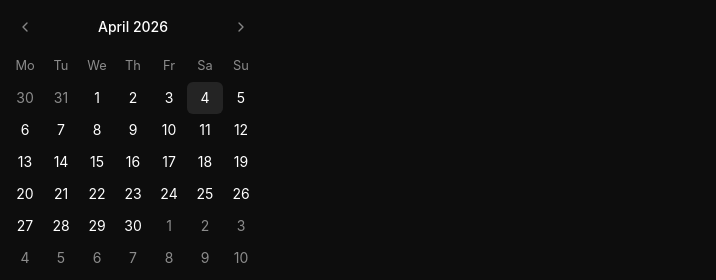
Scenario: Calendar keyboard navigation › pages the month picker years with outward arrows on the year navigation buttons
Later steps or results of the test are not shown.
Click the button named "caption-month-year": (133, 27) [89, 12, 177, 42]
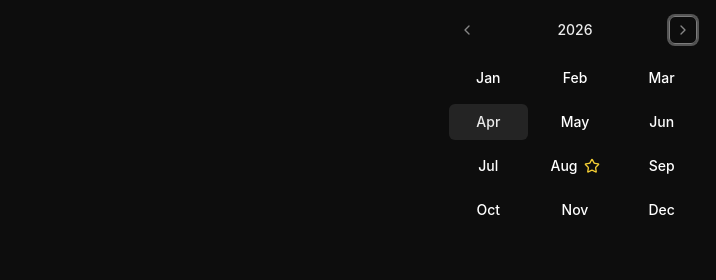
Press ArrowRight in the button named "next-year", box [669, 16, 697, 44]
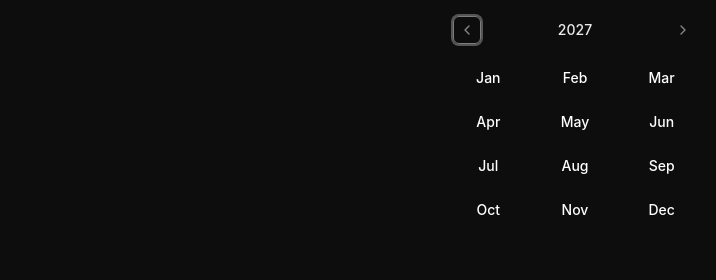
Expected: the text "2027" is shown, [558, 21, 592, 38]
